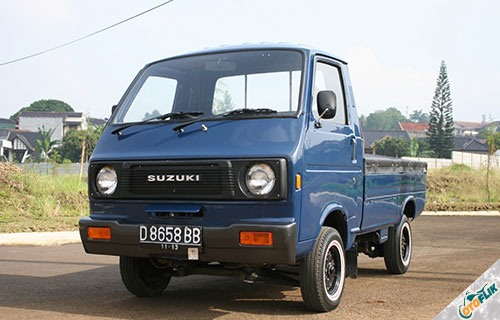plate: (139, 224, 201, 251)
